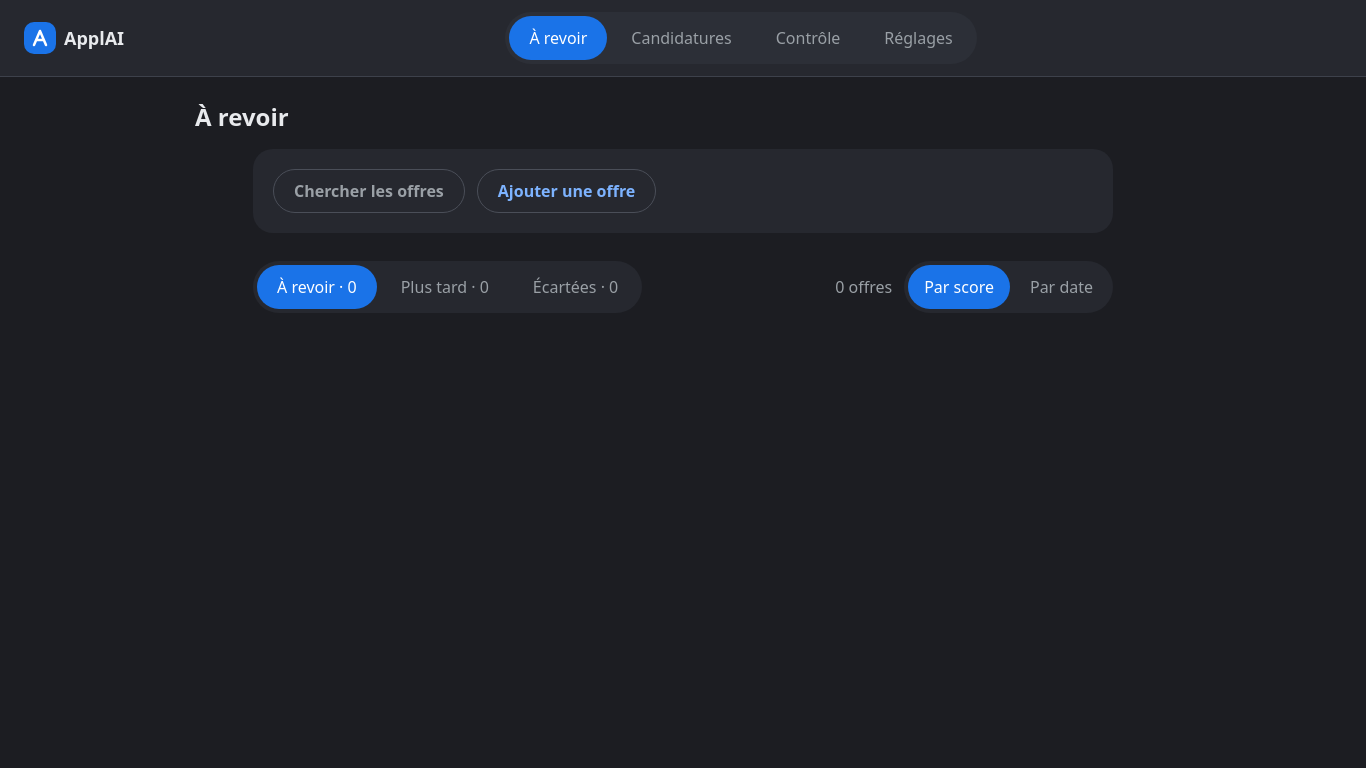
Test: the trace of an application › shows only the offer's Triage and the acceptance for an application with no run yet
The image size is (1366, 768).
Click the button "Candidatures" at (682, 38), box [611,16,752,60]
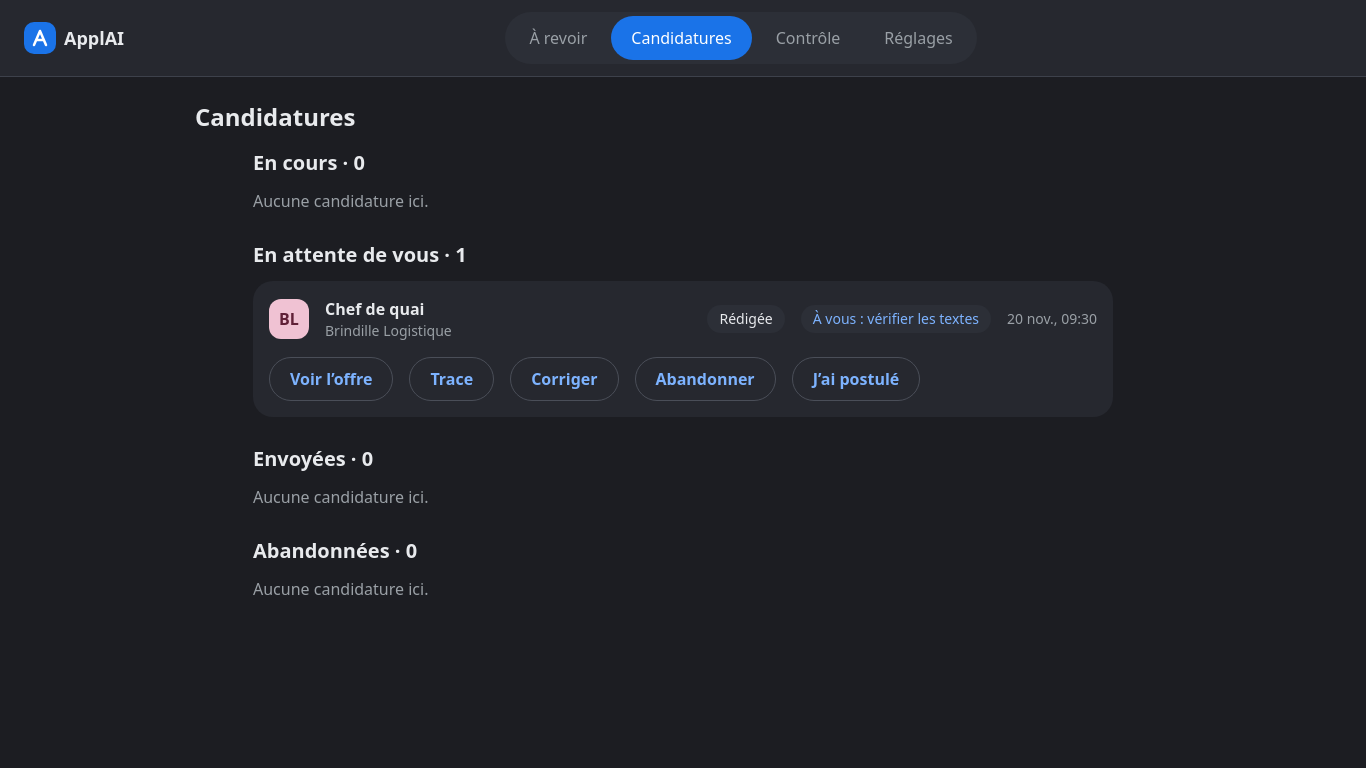
Click the button "Trace" at (452, 379), box [409,357,494,401]
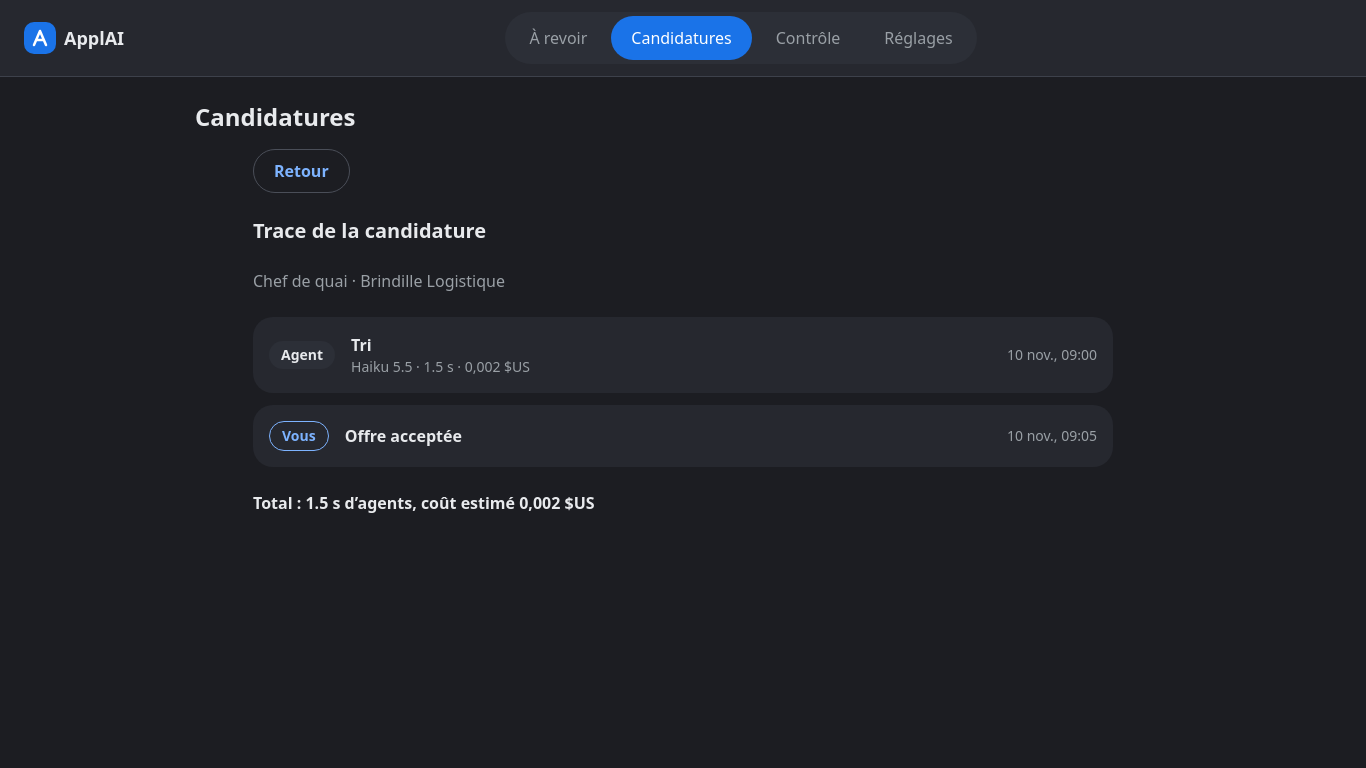
Expected: the number of list items is 2, [253,317,1113,393]; [253,405,1113,467]
Expected: the list item "Agent Tri Haiku 5.5 · 1.5 s · 0,002 $US 10 nov., 09:00" is shown, [253,317,1113,393]
Expected: the list item "Vous Offre acceptée 10 nov., 09:05" is shown, [253,405,1113,467]
